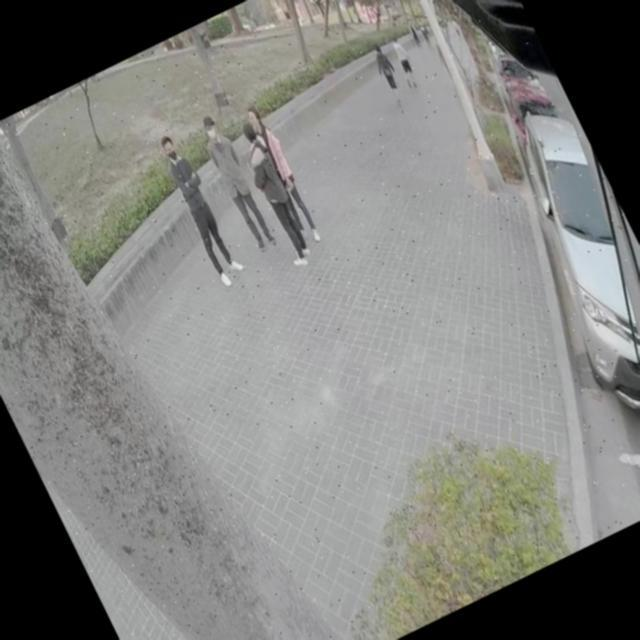person: (222, 110, 326, 276), (150, 128, 244, 286), (194, 111, 282, 258), (240, 98, 328, 245), (363, 37, 411, 108), (385, 34, 423, 92)
